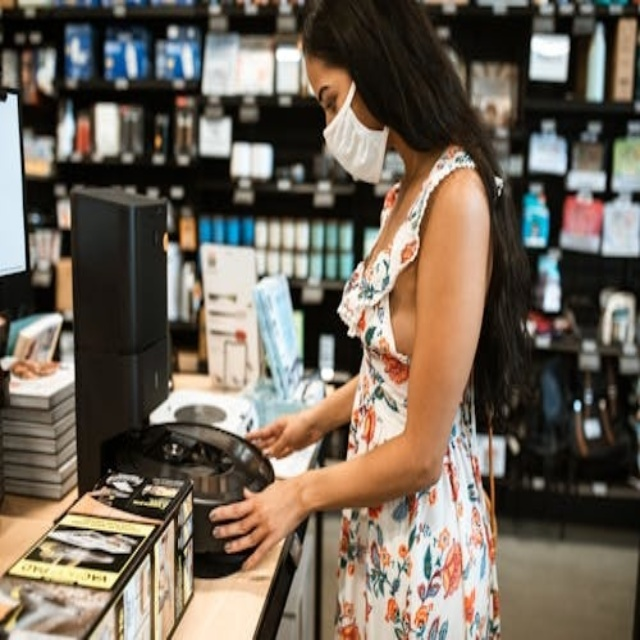Mascara: (320, 79, 391, 185)
Sin_gafas: (308, 65, 348, 113)
Sin_guantes: (209, 469, 302, 578), (244, 396, 315, 467)
